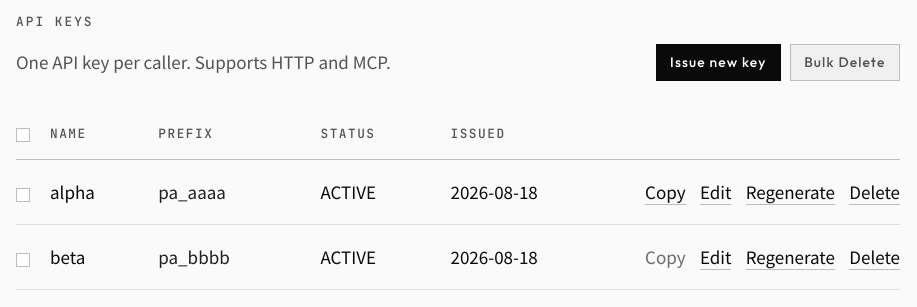
Scenario: KeysScreen bulk select › should_enable_bulk_delete_when_a_row_is_checked
Click the checkbox with test id "keys-select-alpha": (23, 195) 16,188 -> 30,202
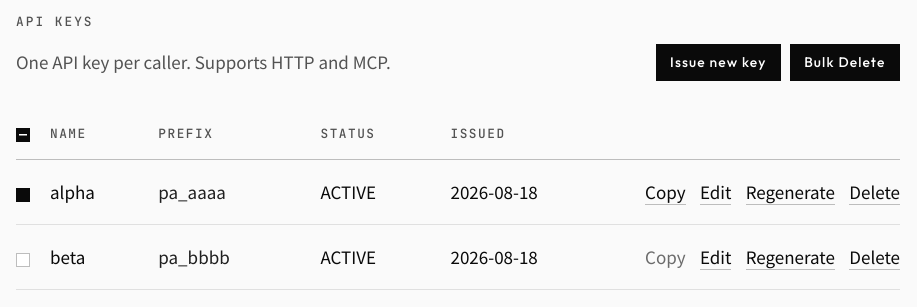
expect the button with test id "keys-delete-selected" is enabled: met, box 790,44 -> 900,81
